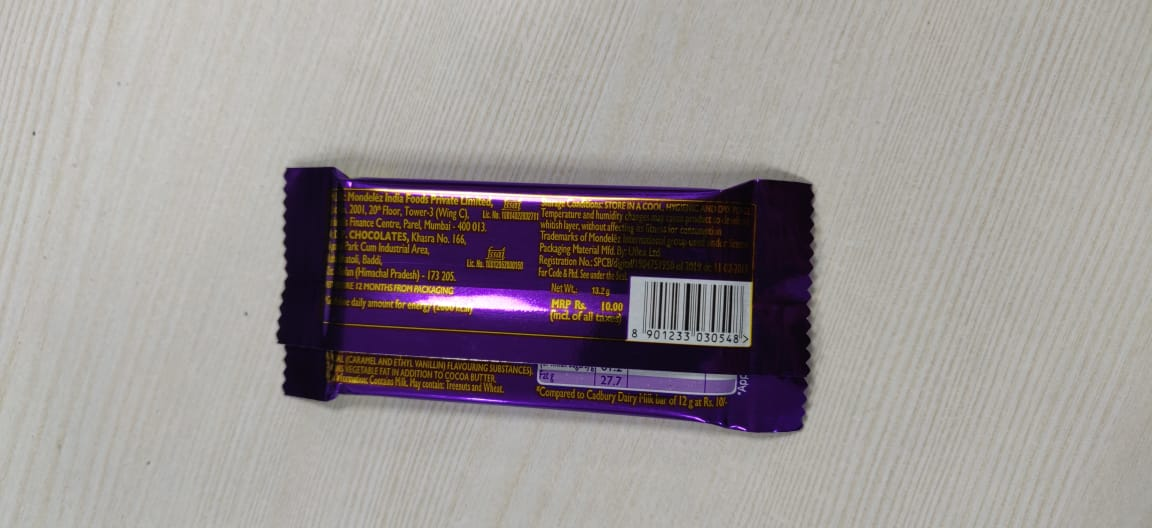dairy milk: (266, 157, 827, 447)
